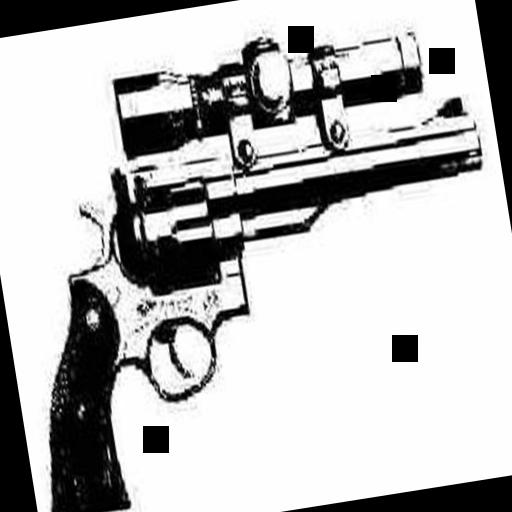Handgun: (0, 83, 512, 512)
